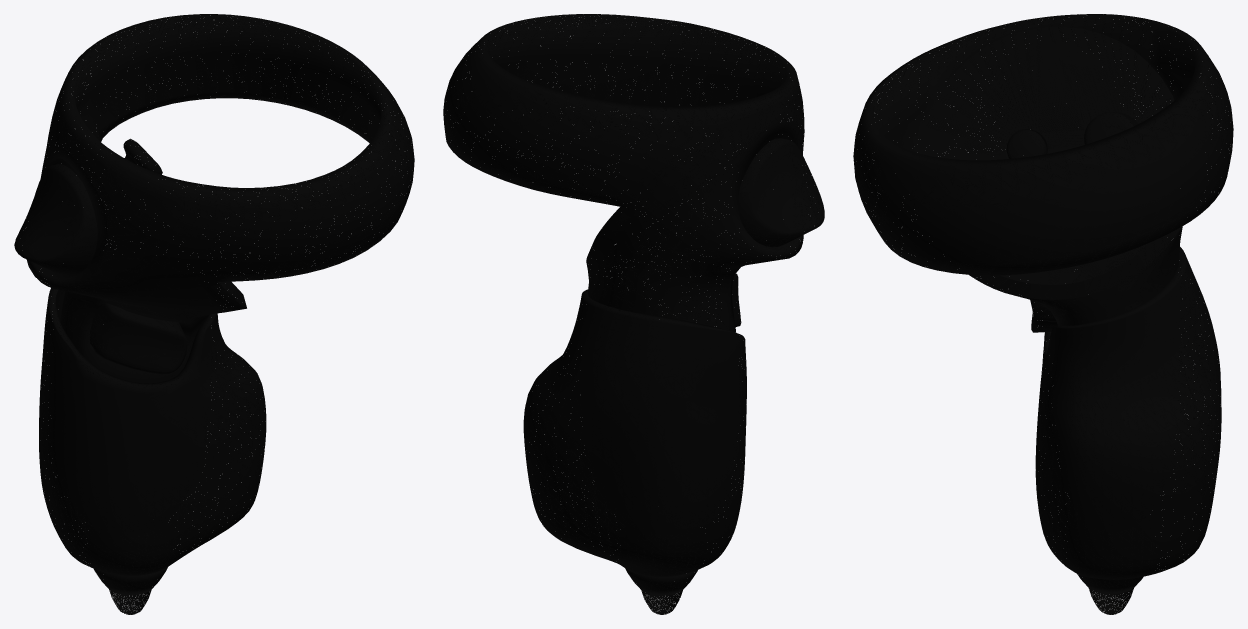
Rendered from EVERPen_Ver1withController.fbx.
3 views of the same model, side by side, from view 1: azimuth 30°, elevation 25°; view 2: azimuth 150°, elevation 25°; view 3: azimuth 270°, elevation 25° (orthographic). The views are drawn at different scales.
Visible parts, largest first — view 1: Plane.003; view 2: Plane.003; view 3: Plane.003.
Boxes of the visible parts, x1,y1,x2,y2 form: Plane.003: [14, 14, 414, 614]; Plane.003: [443, 14, 824, 614]; Plane.003: [853, 14, 1233, 614].
Bounding box in the file's own units: 22.25 × 31.79 × 18.82.
Materials: 1 (1 with a texture image).
